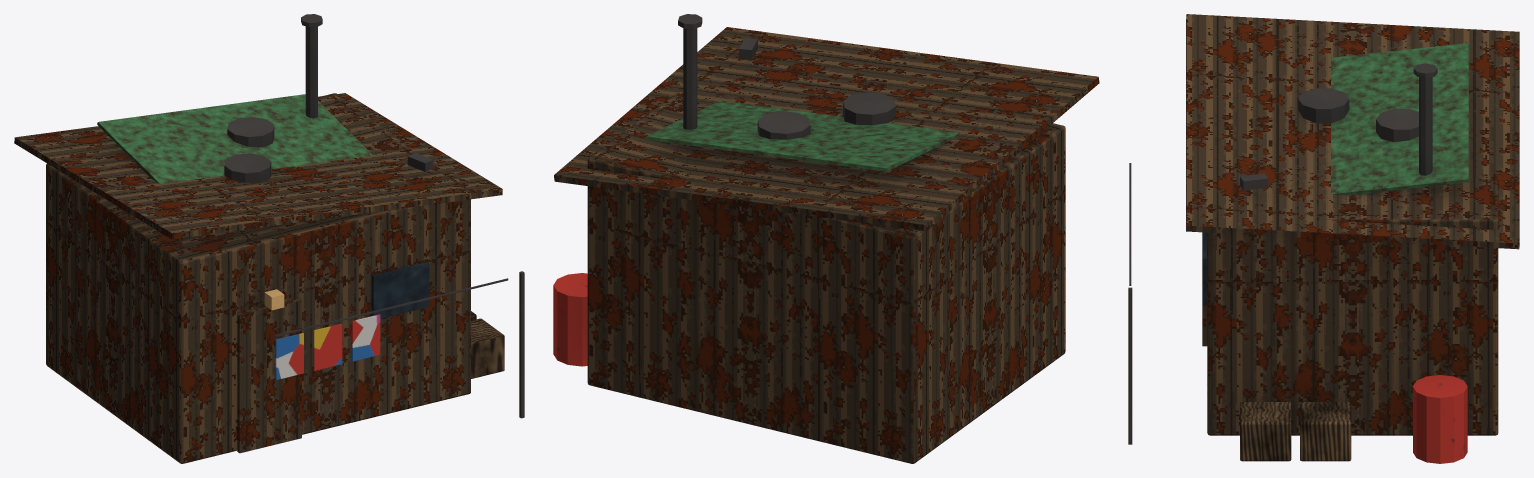
File: city_shack_b.glb
3 views of the same model, side by side, from view 1: azimuth 30°, elevation 25°; view 2: azimuth 150°, elevation 25°; view 3: azimuth 270°, elevation 25° (orthographic). The views are drawn at different scales.
Visible parts, largest first — view 1: city_shack_b; view 2: city_shack_b; view 3: city_shack_b.
Boxes of the visible parts, x1,y1,x2,y2 form: city_shack_b: (14, 14, 524, 463); city_shack_b: (553, 14, 1099, 463); city_shack_b: (1128, 14, 1519, 463).
Size of the model in its own units: 5.27 by 4.35 by 4.57.
Materials: 8 (8 with a texture image).
